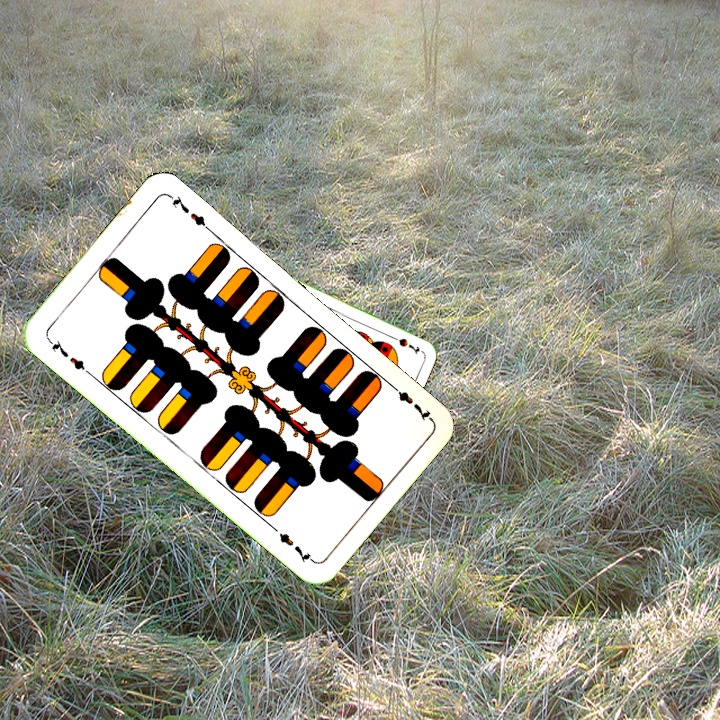E7: (385, 379, 433, 424), (43, 334, 93, 377)
S7: (385, 331, 422, 356)
